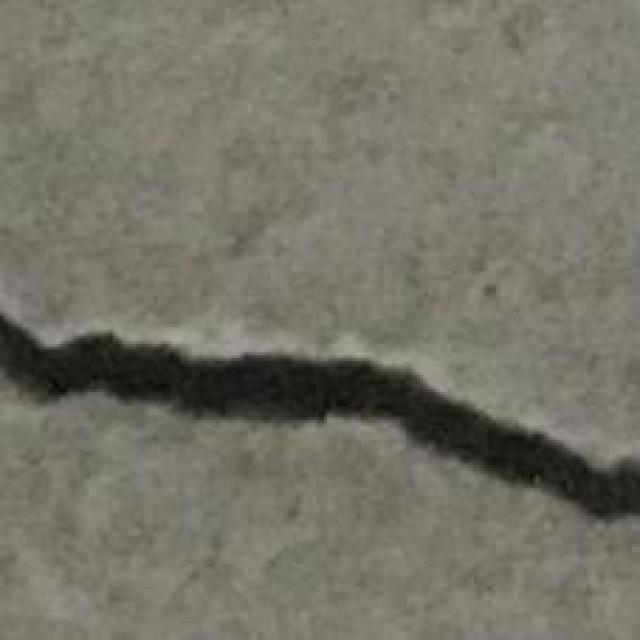Crack: (3, 310, 640, 527)
